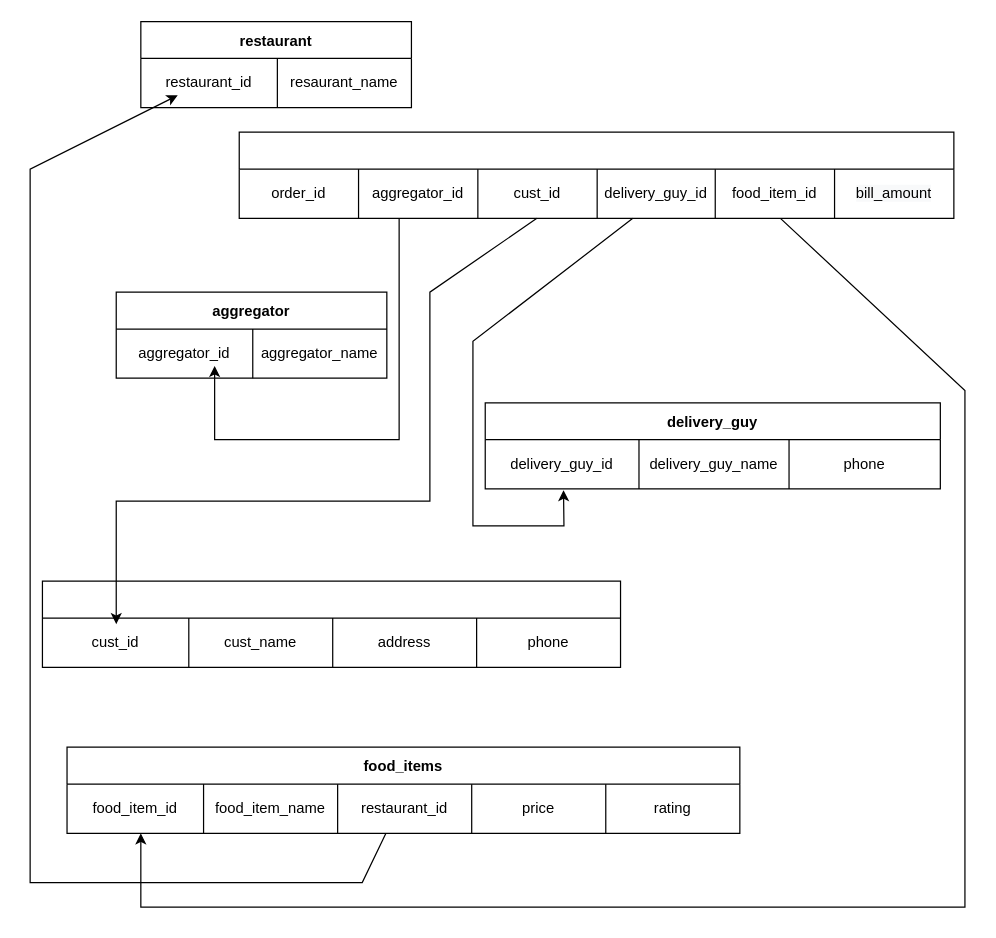
This 996x938 diagram has some shape labels left out. Each missing label, with the box of its shape:
customer: (41, 580, 621, 667)
orders: (238, 131, 954, 218)
